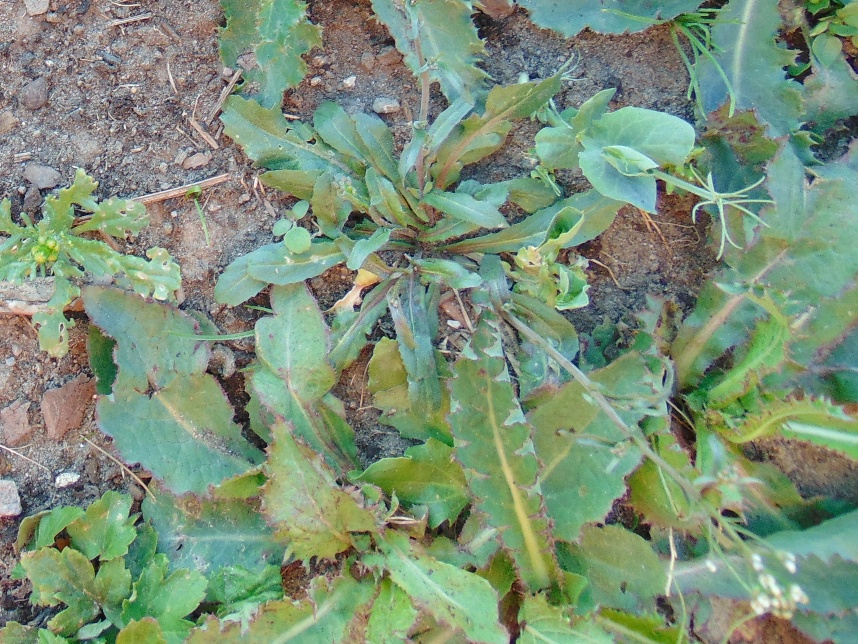crop: (533, 91, 753, 222), (535, 204, 594, 310)
weed: (85, 287, 514, 644), (222, 73, 598, 380), (670, 1, 858, 441), (1, 165, 204, 358), (1, 478, 200, 644), (370, 1, 502, 104), (216, 1, 324, 107), (513, 1, 708, 38), (792, 1, 855, 69), (274, 198, 317, 252)
